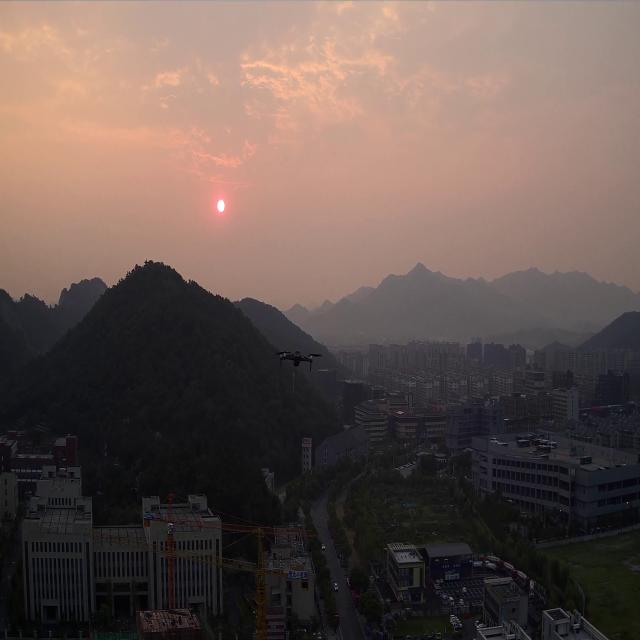UAV: (270, 347, 322, 373)
